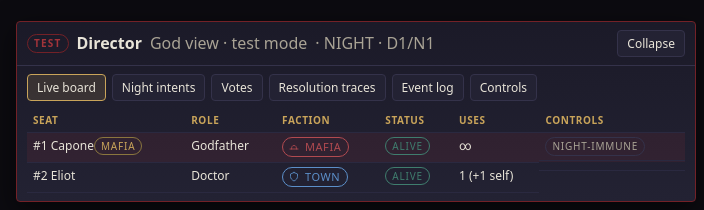
Test case: DirectorGate: visibility gate (no regression to normal play) › renders the resolution-trace viewer for a night
Click the tab "Resolution traces": (327, 87) [268,74,386,100]
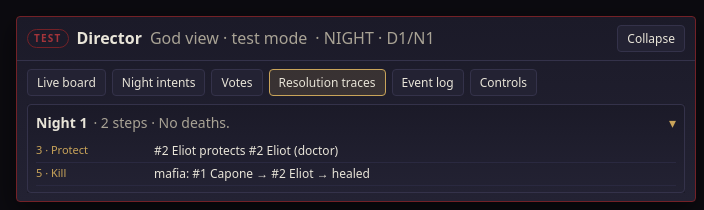
Check: the text "Night 1" is shown, box [36,113,87,132]
Check: the text "mafia: #1 Capone → #2 Eliot → healed" is shown, box [154,165,370,183]
